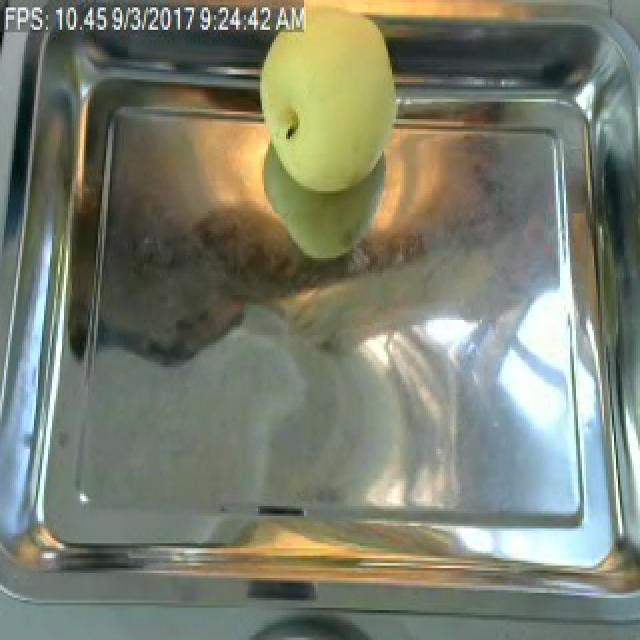Fruit: (256, 17, 410, 206)
